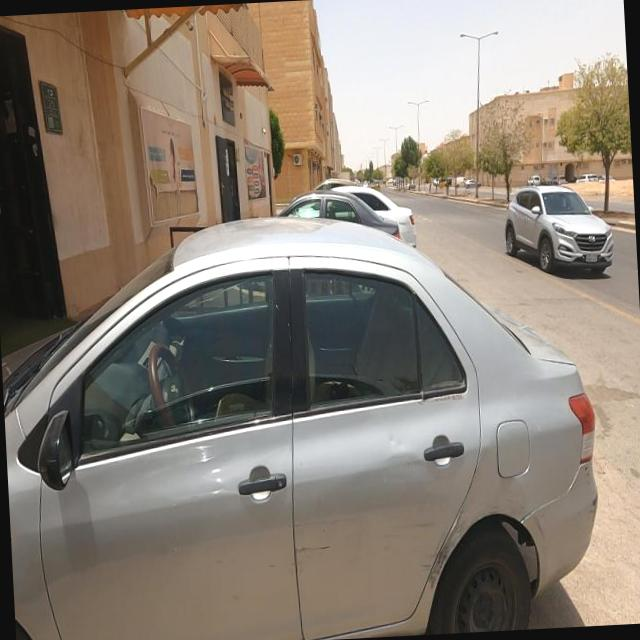debris: (86, 3, 256, 302)
